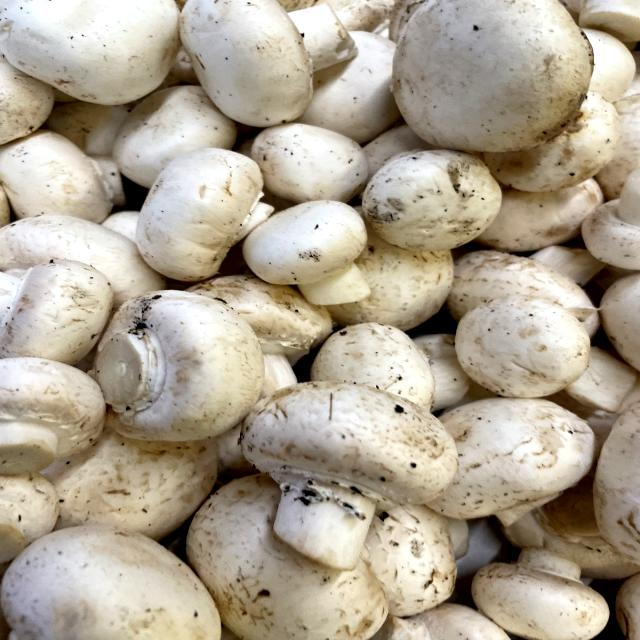mushroom: (225, 361, 459, 561), (79, 269, 264, 453), (436, 284, 613, 403), (235, 191, 385, 312), (462, 531, 626, 640)
